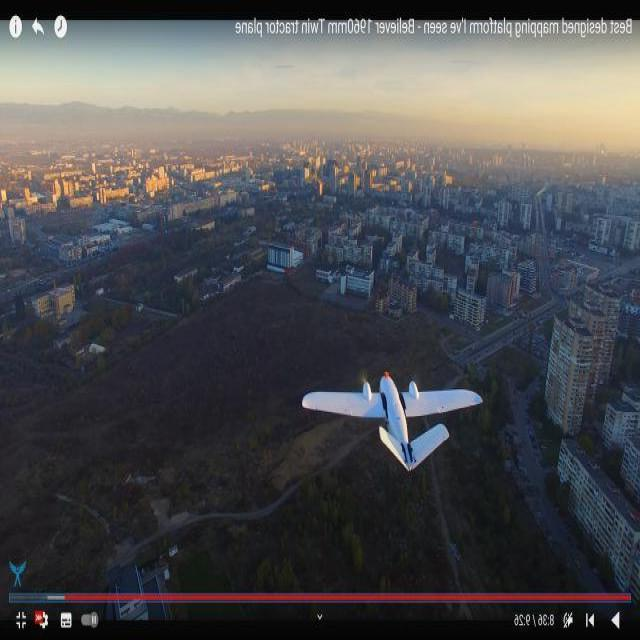iha: (287, 356, 510, 490)
